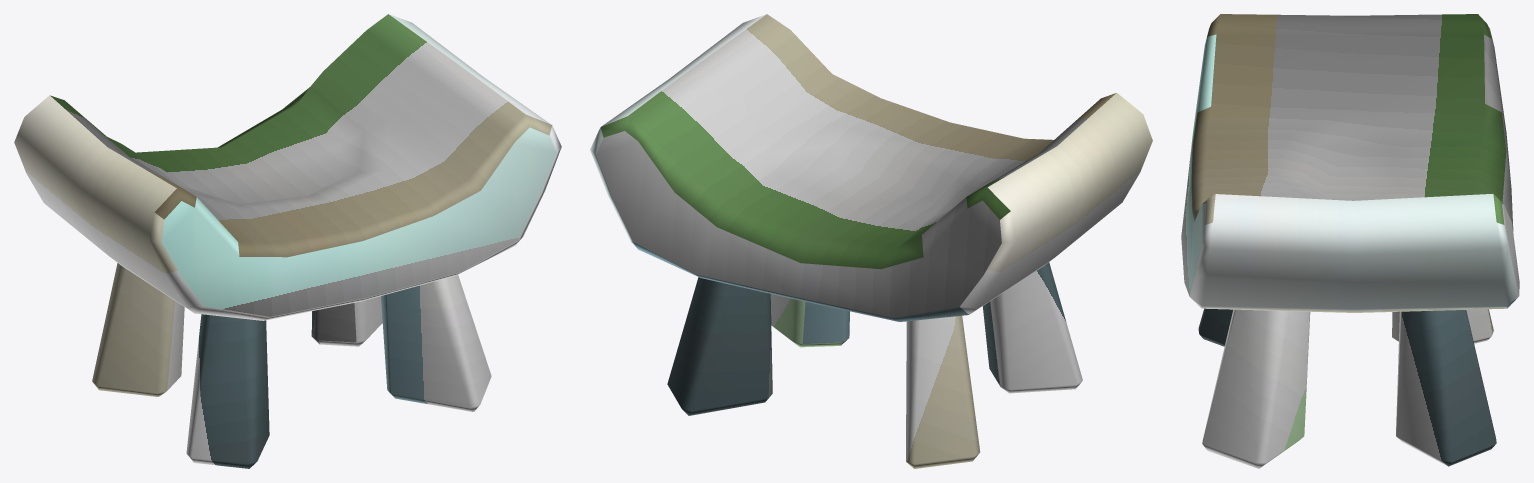
The model's file is P_StoneBenchSingle.glb.
3 renders of one model, left to right at view 1: azimuth 30°, elevation 25°; view 2: azimuth 150°, elevation 25°; view 3: azimuth 270°, elevation 25°, orthographic.
Parts seen in each view (by area): view 1: P_StoneBenchSingle; view 2: P_StoneBenchSingle; view 3: P_StoneBenchSingle.
Part boxes in pixels (box(x1,y1,x2,y2)): P_StoneBenchSingle: box(14, 14, 561, 468); P_StoneBenchSingle: box(590, 14, 1152, 468); P_StoneBenchSingle: box(1181, 14, 1519, 468).
Size of the model in its own units: 0.7421 by 0.4947 by 0.5171.
Materials: 1 (1 with a texture image).
